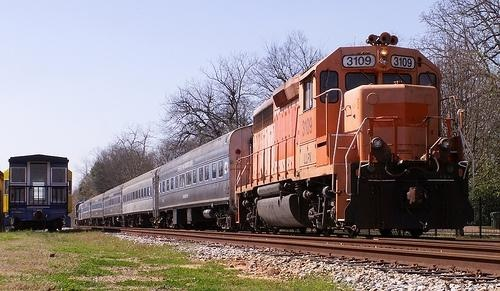train: (75, 46, 473, 240), (2, 154, 74, 232)
